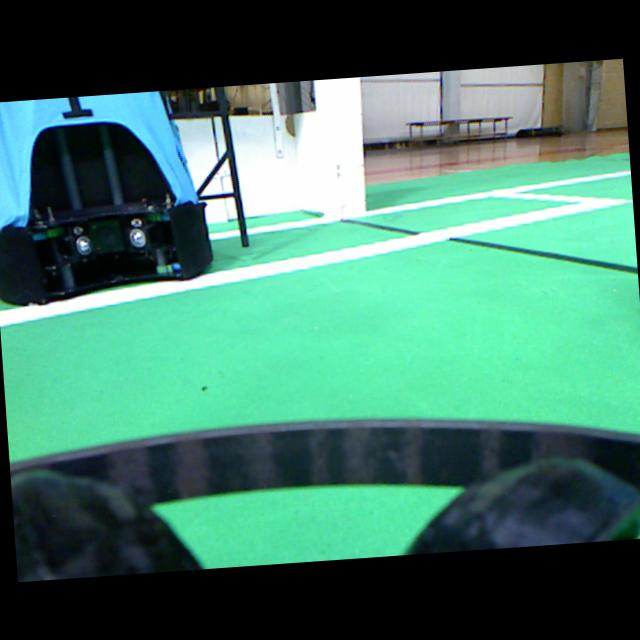goal: (330, 77, 365, 217)
